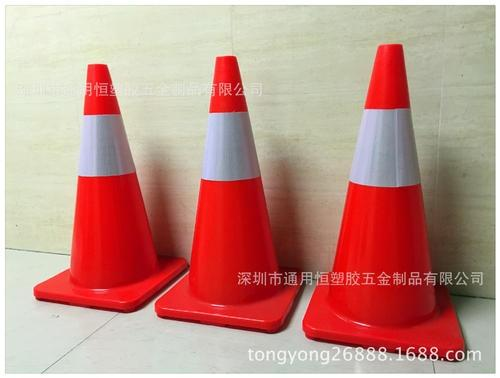cone_barrel: (315, 41, 444, 328), (176, 56, 286, 315), (58, 67, 165, 296)
